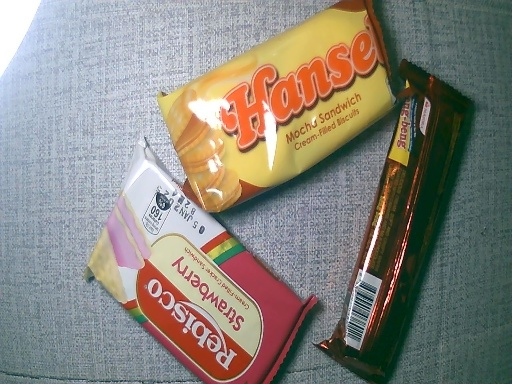plastic: (84, 137, 315, 384), (316, 67, 480, 383), (152, 1, 392, 215)
